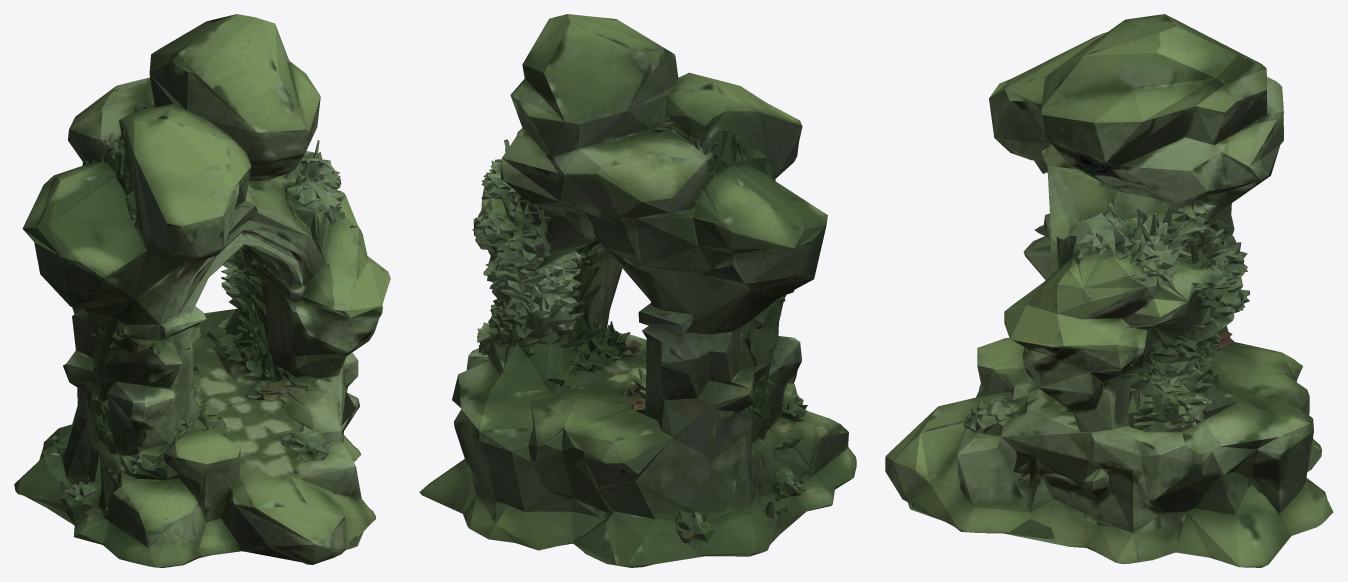
File: bog_rock_cluster_01.glb
3 views of the same model, side by side, from view 1: azimuth 30°, elevation 25°; view 2: azimuth 150°, elevation 25°; view 3: azimuth 270°, elevation 25° (orthographic). The views are drawn at different scales.
Visible parts, largest first — view 1: geometry_0; view 2: geometry_0; view 3: geometry_0.
Boxes of the visible parts, box(x1,y1,x2,y2) form: geometry_0: box(14, 14, 390, 567); geometry_0: box(419, 14, 856, 567); geometry_0: box(885, 14, 1333, 567).
Size of the model in its own units: 0.7565 by 0.9983 by 0.8345.
Materials: 1 (1 with a texture image).
